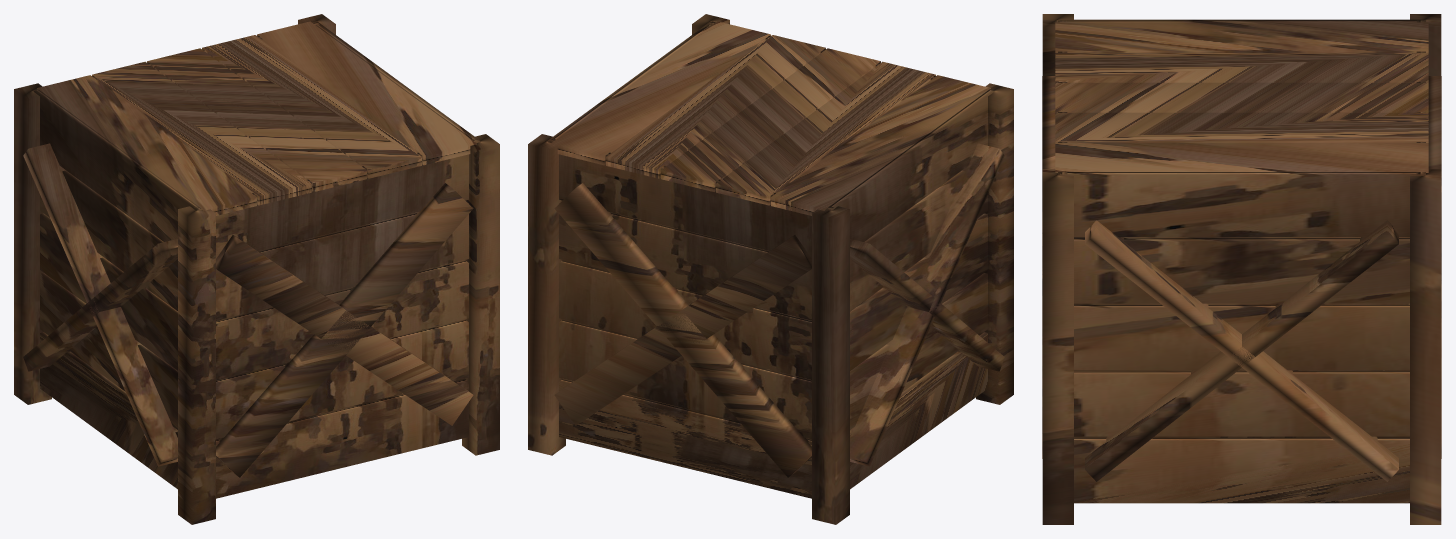
The model's file is scene-0-objects-2-glbData-6a0fb191563f.glb.
3 renders of one model, left to right at view 1: azimuth 30°, elevation 25°; view 2: azimuth 150°, elevation 25°; view 3: azimuth 270°, elevation 25°, orthographic. The views are drawn at different scales.
Parts seen in each view (by area): view 1: Wooden_Crate_Optimized; view 2: Wooden_Crate_Optimized; view 3: Wooden_Crate_Optimized.
Part boxes in pixels (box(x1,y1,x2,y2)): Wooden_Crate_Optimized: box(14, 14, 499, 524); Wooden_Crate_Optimized: box(528, 14, 1013, 524); Wooden_Crate_Optimized: box(1042, 14, 1441, 524).
Bounding box in the file's own units: 0.953 × 0.8525 × 0.898.
1 material, 1 textured.
